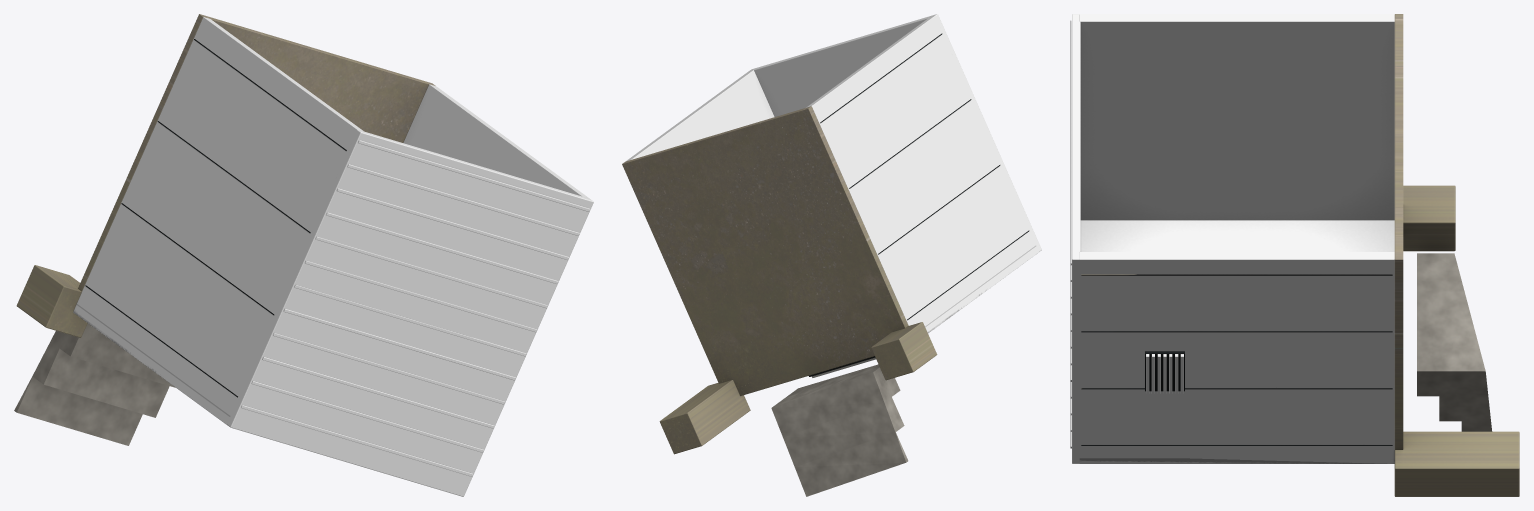
Rendered from white_unit_south.obj.
3 views of the same model, side by side, from view 1: azimuth 30°, elevation 25°; view 2: azimuth 150°, elevation 25°; view 3: azimuth 270°, elevation 25° (orthographic). The views are drawn at different scales.
Parts seen in each view (by area): view 1: white_unit_south; view 2: white_unit_south; view 3: white_unit_south.
Part boxes in pixels (box(x1,y1,x2,y2)): white_unit_south: box(14, 14, 593, 496); white_unit_south: box(622, 14, 1041, 496); white_unit_south: box(1070, 14, 1519, 496).
Bounding box in the file's own units: 3.71 × 4.03 × 3.62.
1 material, 1 textured.
